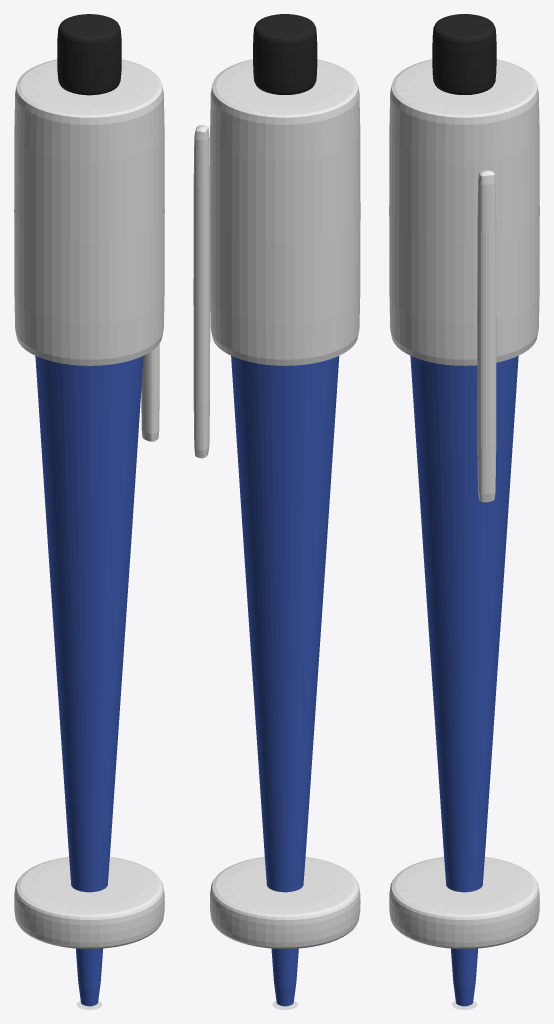
File: boligrafo.glb
The picture shows the model from 3 angles, left to right: view 1: azimuth 30°, elevation 25°; view 2: azimuth 150°, elevation 25°; view 3: azimuth 270°, elevation 25°; orthographic projection.
Visible parts, largest first — view 1: Boligrafo; view 2: Boligrafo; view 3: Boligrafo.
Boxes of the visible parts, <box> form: Boligrafo: <box>14,14,164,1009</box>; Boligrafo: <box>193,14,360,1009</box>; Boligrafo: <box>389,14,539,1009</box>.
Size of the model in its own units: 0.2518 by 1.63 by 0.2271.
